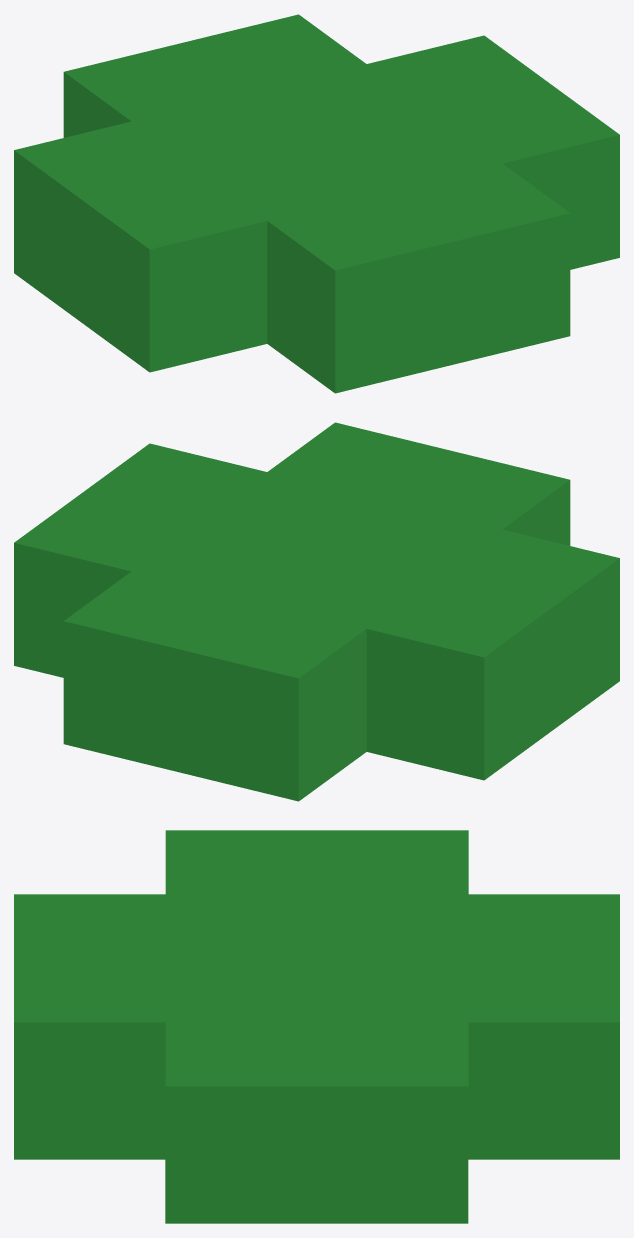
The model's file is alchemy_glow.gltf.
3 views of the same model, one above another, from view 1: azimuth 30°, elevation 25°; view 2: azimuth 150°, elevation 25°; view 3: azimuth 270°, elevation 25° (orthographic). The views are drawn at different scales.
Parts seen in each view (by area): view 1: alchemy_glow; view 2: alchemy_glow; view 3: alchemy_glow.
Boxes of the visible parts, x1,y1,x2,y2 form: alchemy_glow: [14, 14, 619, 393]; alchemy_glow: [14, 422, 619, 801]; alchemy_glow: [14, 830, 619, 1223].
Size of the model in its own units: 0.4 by 0.1 by 0.4.
1 material, 1 textured.
